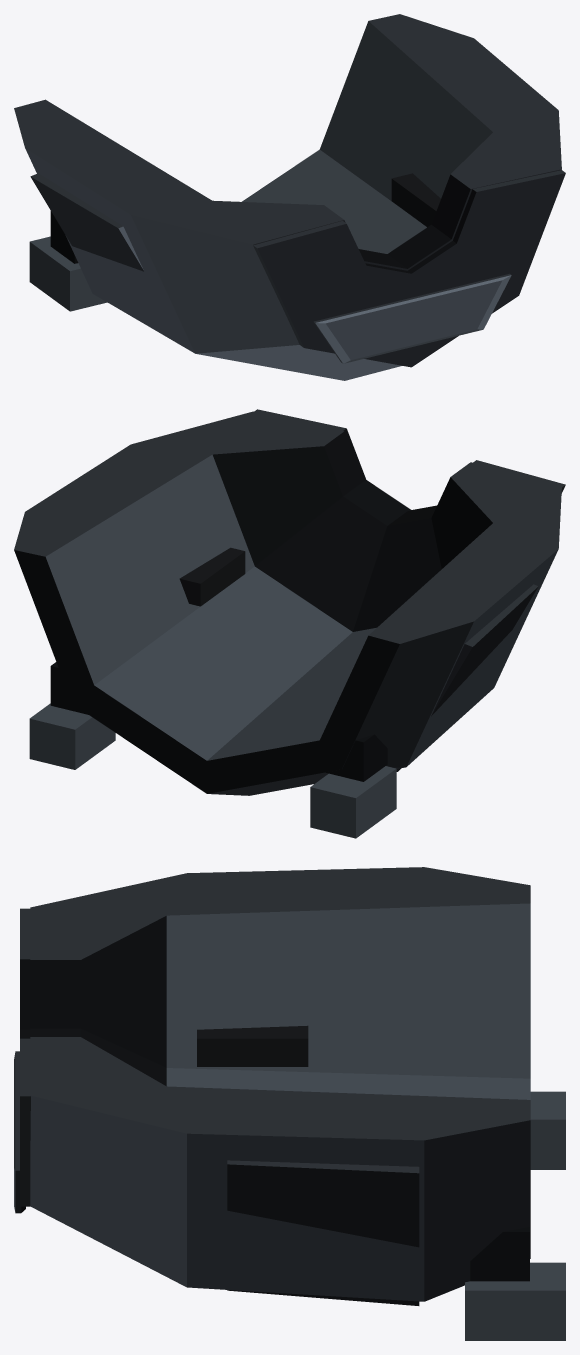
Rendered from VeilArmourBottom.obj.
The picture shows the model from 3 angles, top to bottom: view 1: azimuth 30°, elevation 25°; view 2: azimuth 150°, elevation 25°; view 3: azimuth 270°, elevation 25°; orthographic projection. The views are drawn at different scales.
Visible parts, largest first — view 1: armoured_bore_jaw, nose_armour_face, jaw_forehead_plate, jaw_reinforcement, hinge_trunnion, jaw_inner_stop, actuator_guide; view 2: armoured_bore_jaw, hinge_trunnion, jaw_reinforcement, actuator_guide, jaw_inner_stop, nose_armour_face; view 3: armoured_bore_jaw, jaw_reinforcement, hinge_trunnion, jaw_inner_stop, nose_armour_face, actuator_guide, jaw_forehead_plate.
Part boxes in pixels (left/top/right/bottom): armoured_bore_jaw: left=14, top=14, right=561, bottom=380; nose_armour_face: left=253, top=170, right=565, bottom=367; jaw_forehead_plate: left=313, top=273, right=511, bottom=363; jaw_reinforcement: left=30, top=173, right=144, bottom=271; hinge_trunnion: left=29, top=236, right=106, bottom=311; jaw_inner_stop: left=391, top=173, right=440, bottom=227; actuator_guide: left=50, top=211, right=78, bottom=263; armoured_bore_jaw: left=14, top=411, right=561, bottom=795; hinge_trunnion: left=29, top=703, right=396, bottom=838; jaw_reinforcement: left=396, top=584, right=538, bottom=771; actuator_guide: left=50, top=662, right=387, bottom=781; jaw_inner_stop: left=179, top=547, right=245, bottom=606; nose_armour_face: left=254, top=409, right=565, bottom=511; armoured_bore_jaw: left=30, top=867, right=530, bottom=1301; jaw_reinforcement: left=227, top=1160, right=419, bottom=1305; hinge_trunnion: left=465, top=1091, right=565, bottom=1340; jaw_inner_stop: left=197, top=1025, right=308, bottom=1066; nose_armour_face: left=20, top=908, right=30, bottom=1206; actuator_guide: left=470, top=1227, right=529, bottom=1281; jaw_forehead_plate: left=14, top=1051, right=25, bottom=1213.
Bounding box in the file's own units: 1.28 × 0.6355 × 1.09.
